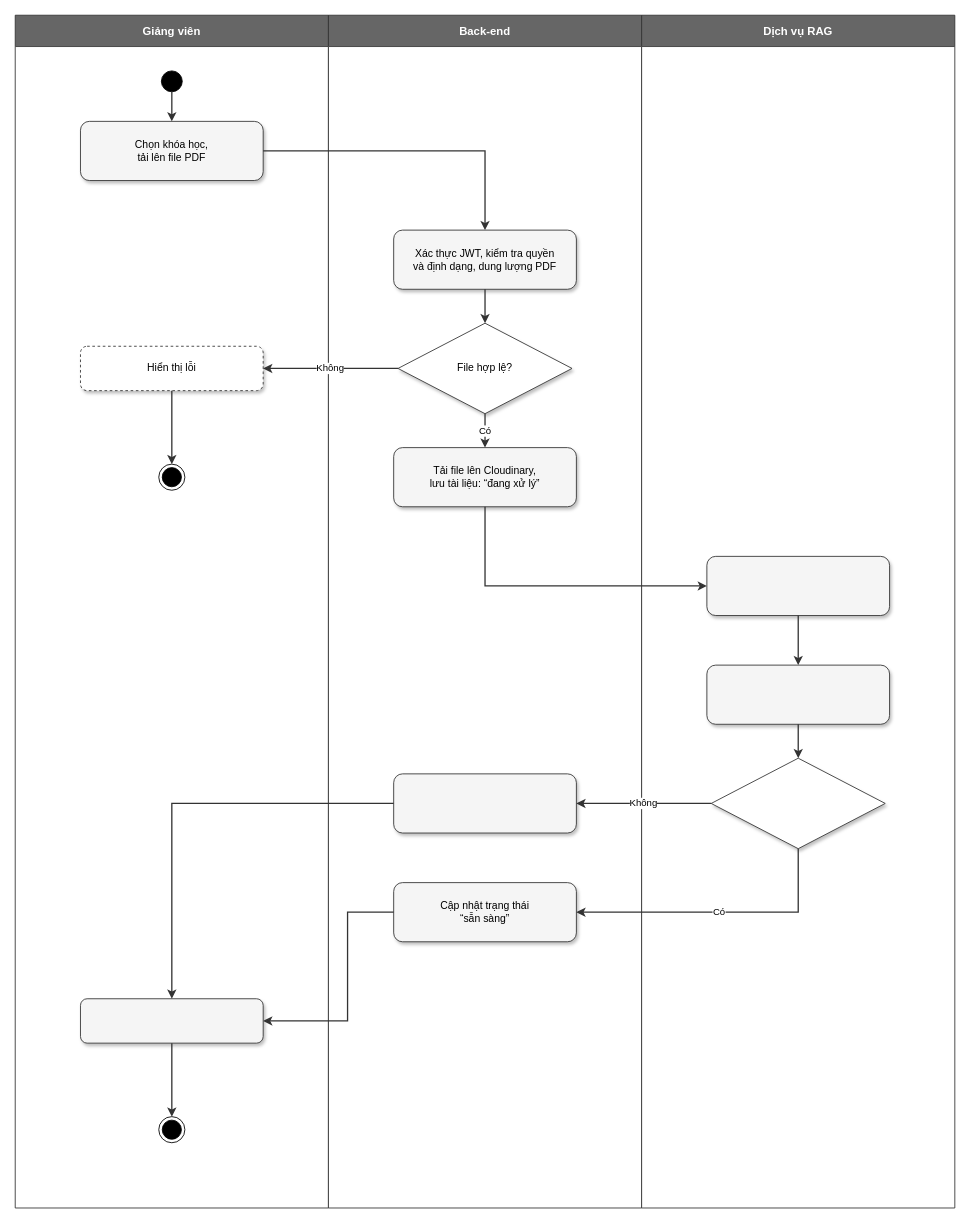
The diagram is 970 pixels wide and 1223 high, and some of its shapes have lost their labels. The centre of each missing label's shape, as x and y in pixels:
Cập nhật trạng thái “lỗi”: pixel 485 804
Lưu vector kèm mã khóa học vào ChromaDB: pixel 799 695
Tải PDF, trích văn bản, cắt đoạn, tạo embedding: pixel 799 587
Xem trạng thái tài liệu: pixel 172 1021
Xử lý thành công?: pixel 798 804
